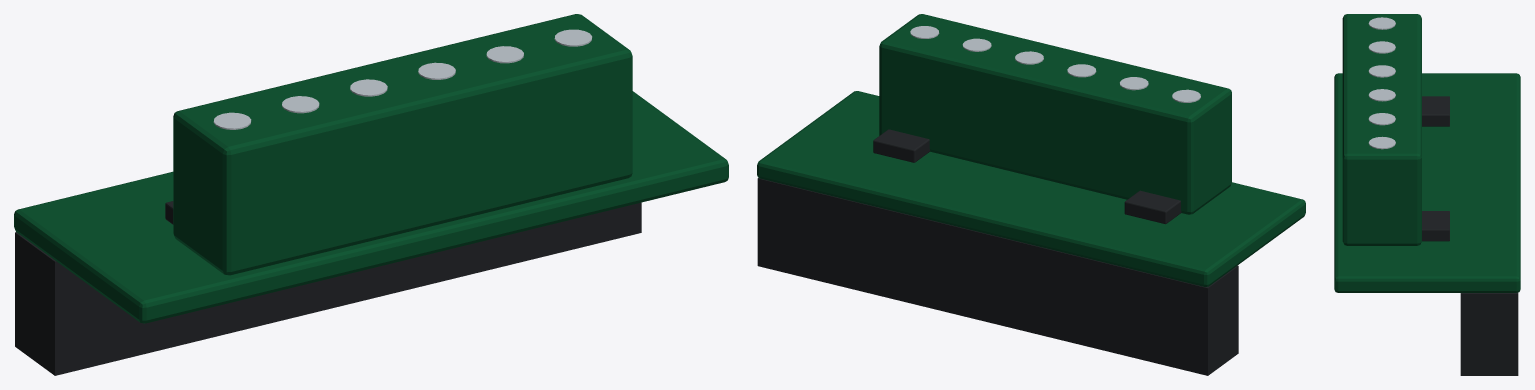
The model's file is motor_driver_max14870_rpi.glb.
3 renders of one model, left to right at view 1: azimuth 30°, elevation 25°; view 2: azimuth 150°, elevation 25°; view 3: azimuth 270°, elevation 25°, orthographic. The views are drawn at different scales.
Visible parts, largest first — view 1: part_motor_driver_max14870_rpi__pcb, part_motor_driver_max14870_rpi__black_polymer, part_motor_driver_max14870_rpi__steel; view 2: part_motor_driver_max14870_rpi__pcb, part_motor_driver_max14870_rpi__black_polymer, part_motor_driver_max14870_rpi__steel; view 3: part_motor_driver_max14870_rpi__pcb, part_motor_driver_max14870_rpi__black_polymer, part_motor_driver_max14870_rpi__steel.
Part boxes in pixels (x1,y1,x2,y2): part_motor_driver_max14870_rpi__pcb: [14, 14, 728, 323]; part_motor_driver_max14870_rpi__black_polymer: [15, 201, 641, 375]; part_motor_driver_max14870_rpi__steel: [213, 29, 592, 129]; part_motor_driver_max14870_rpi__pcb: [757, 14, 1305, 286]; part_motor_driver_max14870_rpi__black_polymer: [757, 129, 1238, 375]; part_motor_driver_max14870_rpi__steel: [910, 26, 1200, 102]; part_motor_driver_max14870_rpi__pcb: [1334, 14, 1520, 292]; part_motor_driver_max14870_rpi__black_polymer: [1422, 96, 1518, 375]; part_motor_driver_max14870_rpi__steel: [1368, 17, 1395, 149].
Bounding box in the file's own units: 0.0432 × 0.0186 × 0.0165.
